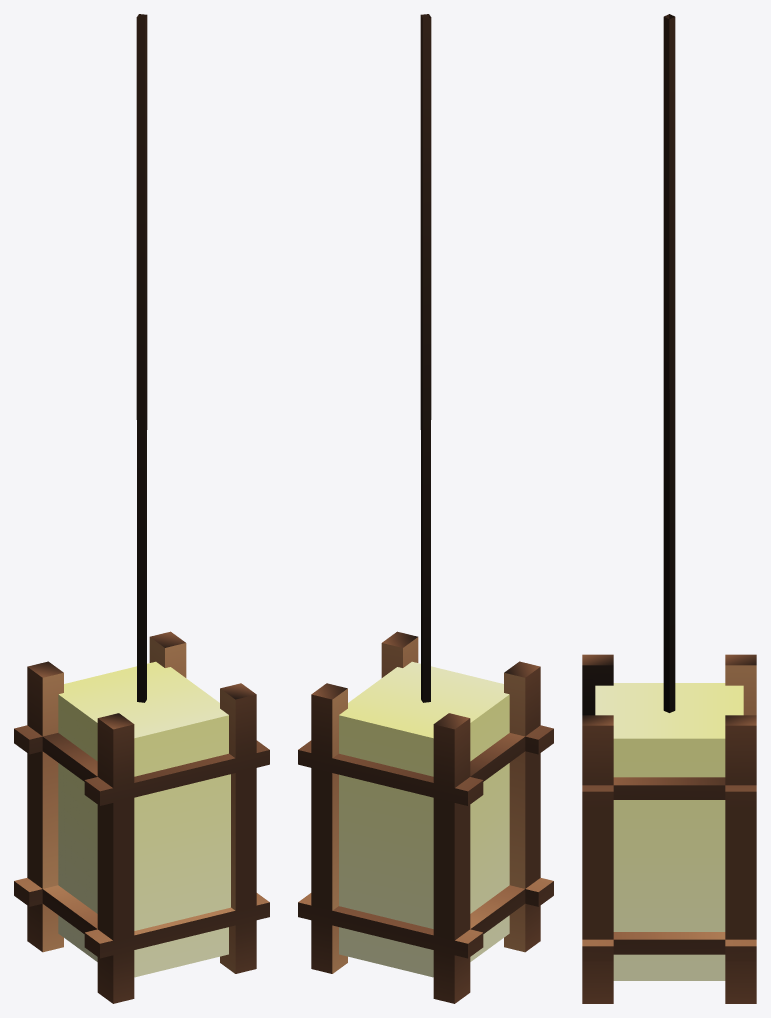
The model's file is SK_Lamp_001.FBX.
3 renders of one model, left to right at view 1: azimuth 30°, elevation 25°; view 2: azimuth 150°, elevation 25°; view 3: azimuth 270°, elevation 25°, orthographic.
Parts seen in each view (by area): view 1: SK_Lamp_001, SK_Lamp_yellowlight; view 2: SK_Lamp_001, SK_Lamp_yellowlight; view 3: SK_Lamp_001, SK_Lamp_yellowlight.
Boxes of the visible parts, x1,y1,x2,y2 form: SK_Lamp_001: [14, 14, 269, 1003]; SK_Lamp_yellowlight: [58, 661, 230, 977]; SK_Lamp_001: [298, 14, 553, 1003]; SK_Lamp_yellowlight: [339, 661, 509, 977]; SK_Lamp_001: [582, 14, 756, 1003]; SK_Lamp_yellowlight: [595, 683, 743, 980].
Bounding box in the file's own units: 25.49 × 135 × 22.3.
Materials: 1 (1 with a texture image).
